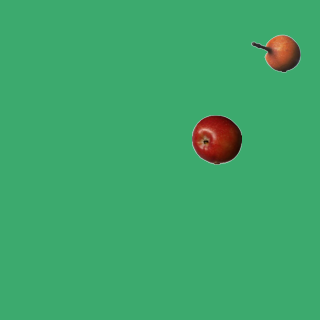Apple Braeburn: (191, 114, 241, 164)
Granadilla: (250, 28, 300, 78)
